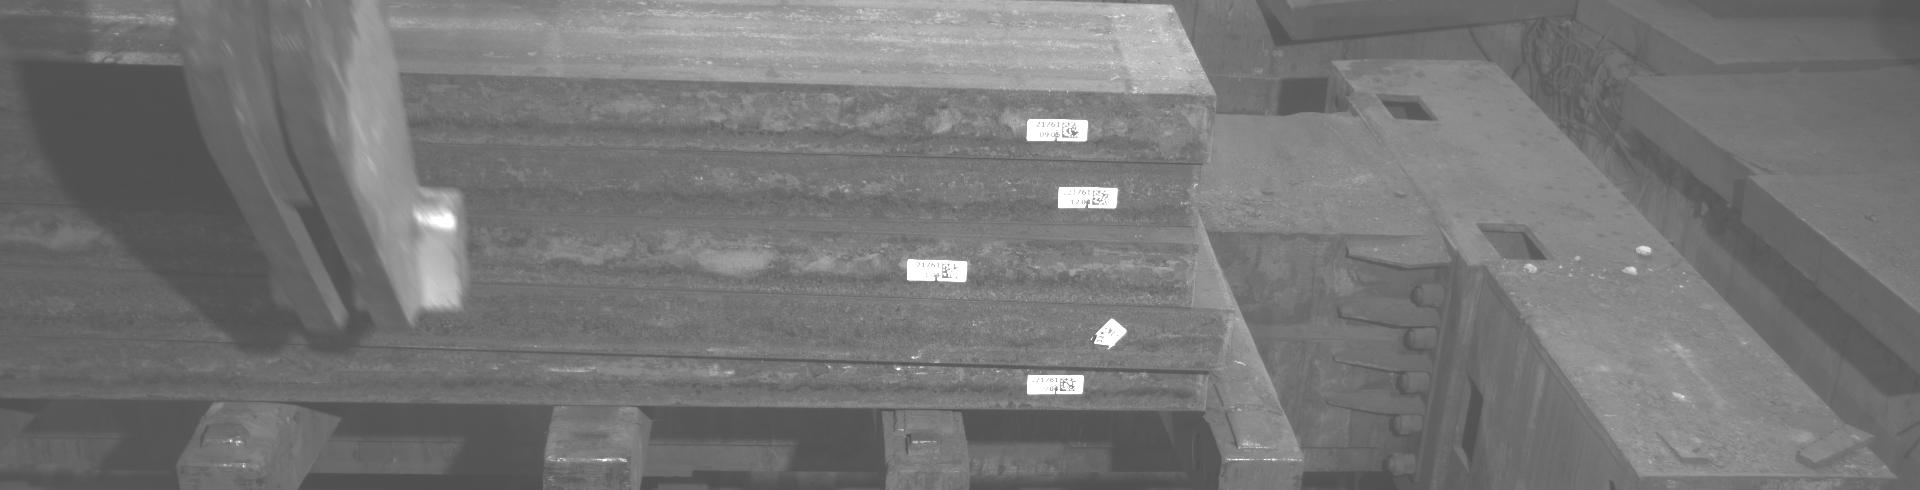data matrix: (1060, 121, 1082, 141), (1093, 189, 1112, 207), (942, 263, 961, 281), (1060, 377, 1078, 393)
